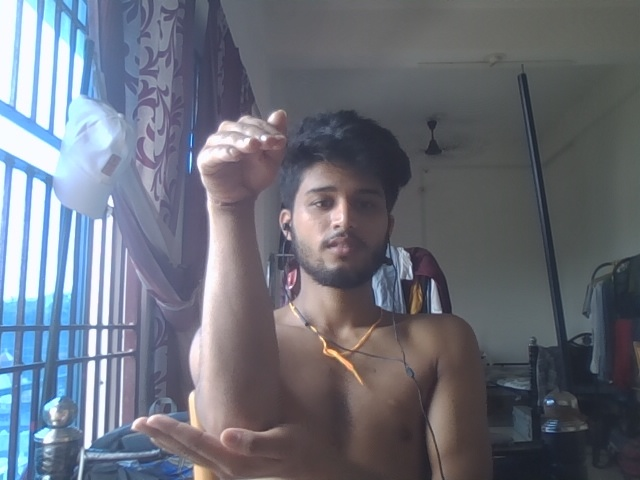Thulu: (178, 91, 312, 477)
